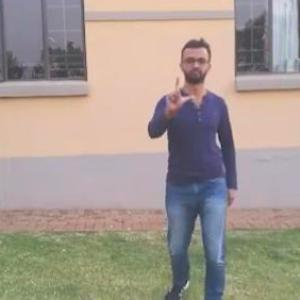land_hand: (158, 67, 197, 114)
